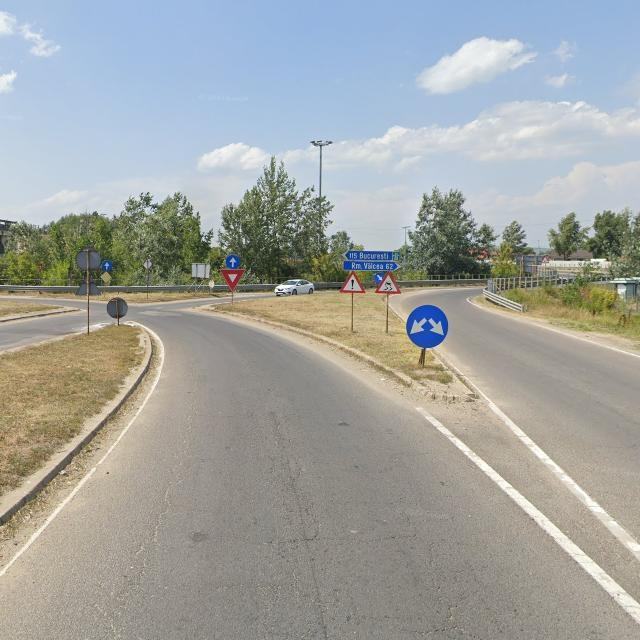prio_give_way: (220, 269, 246, 293)
